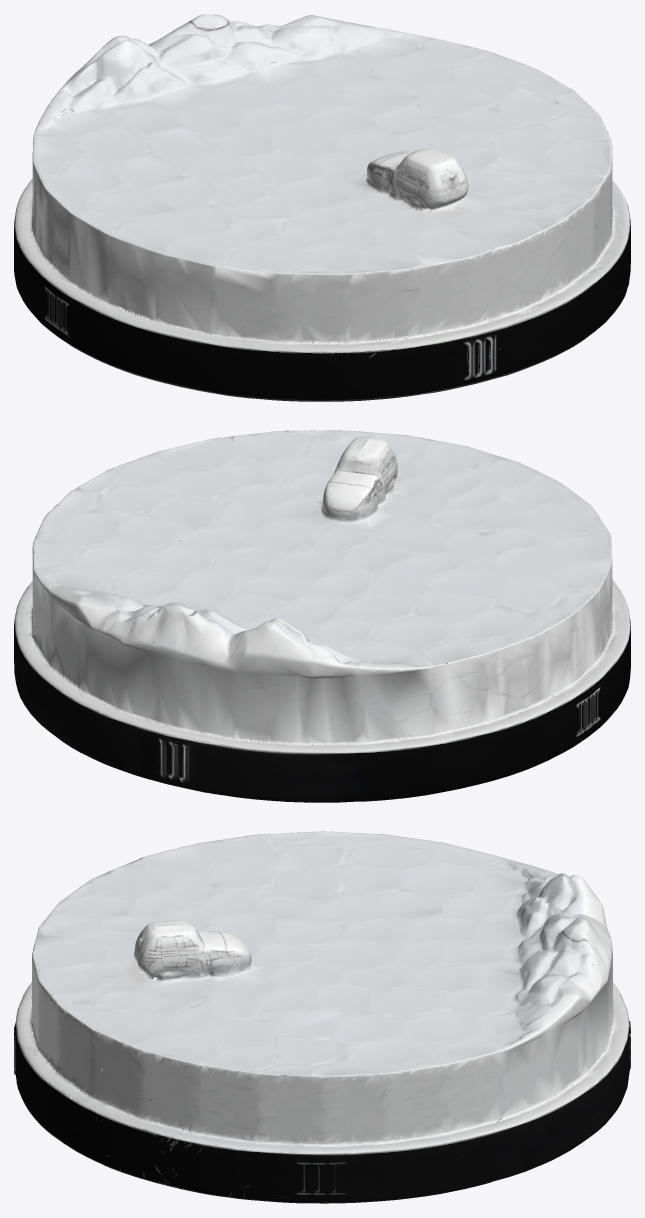
The model's file is salar_uyuni.glb.
The picture shows the model from 3 angles, top to bottom: view 1: azimuth 30°, elevation 25°; view 2: azimuth 150°, elevation 25°; view 3: azimuth 270°, elevation 25°; orthographic projection.
Parts seen in each view (by area): view 1: Mesh_0; view 2: Mesh_0; view 3: Mesh_0.
Boxes of the visible parts, x1=… form: Mesh_0: x1=14, y1=14, x2=630, y2=401; Mesh_0: x1=14, y1=430, x2=630, y2=802; Mesh_0: x1=14, y1=831, x2=630, y2=1203.
Size of the model in its own units: 1.91 by 0.5678 by 1.91.
Materials: 1 (1 with a texture image).
